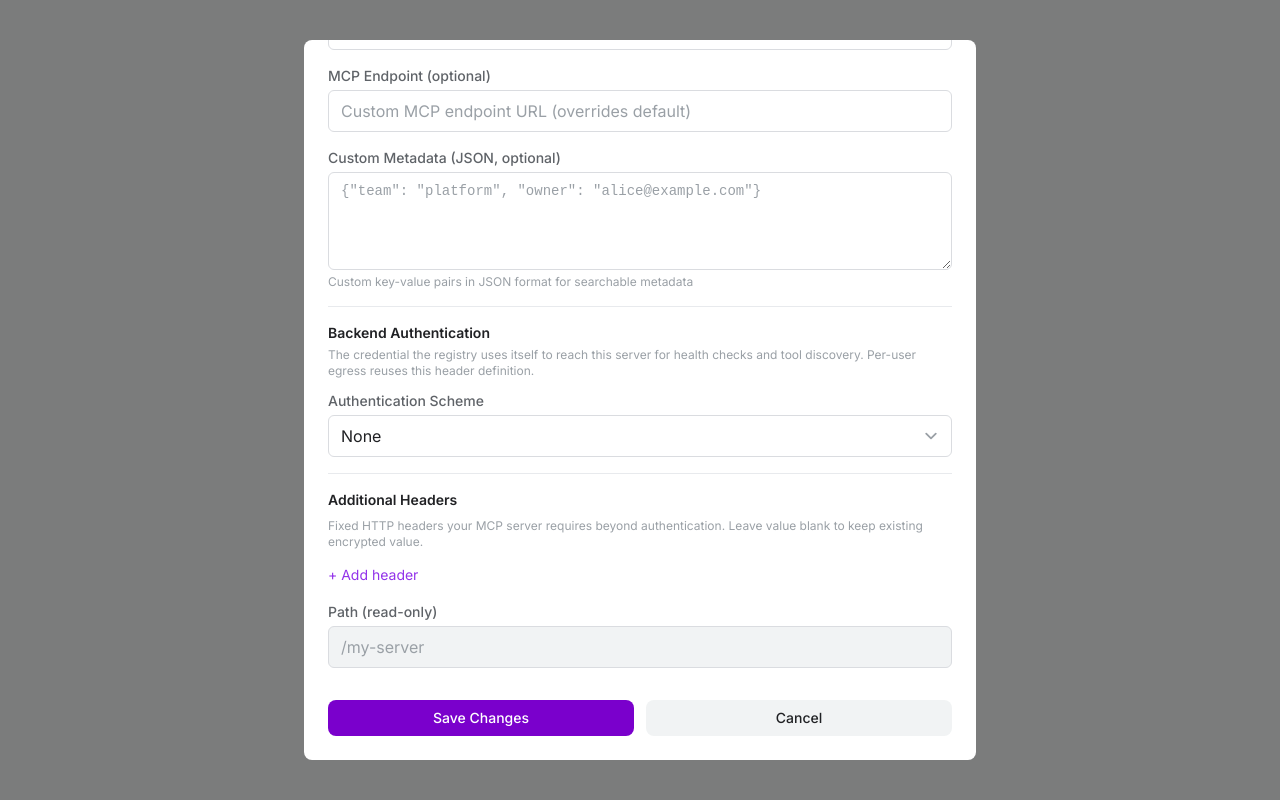
Test: ServerEditModal › reveals the credential input when an auth scheme is chosen
(page scrolled)
Step 1. Select "Bearer Token" in the dropdown showing "None" → (640, 436), box left=328, top=415, right=952, bottom=457
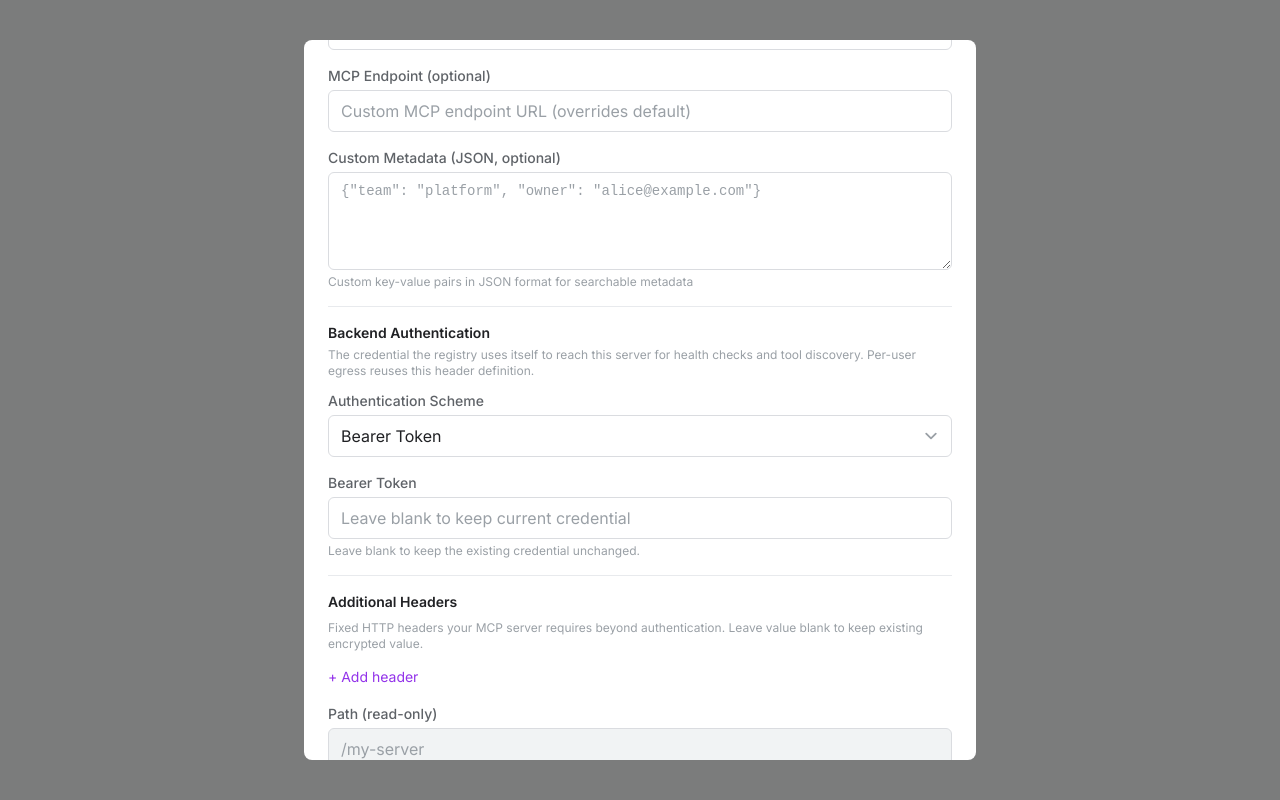
expect the password field with placeholder "Leave blank to keep current credential" is shown: met, box left=328, top=497, right=952, bottom=539
